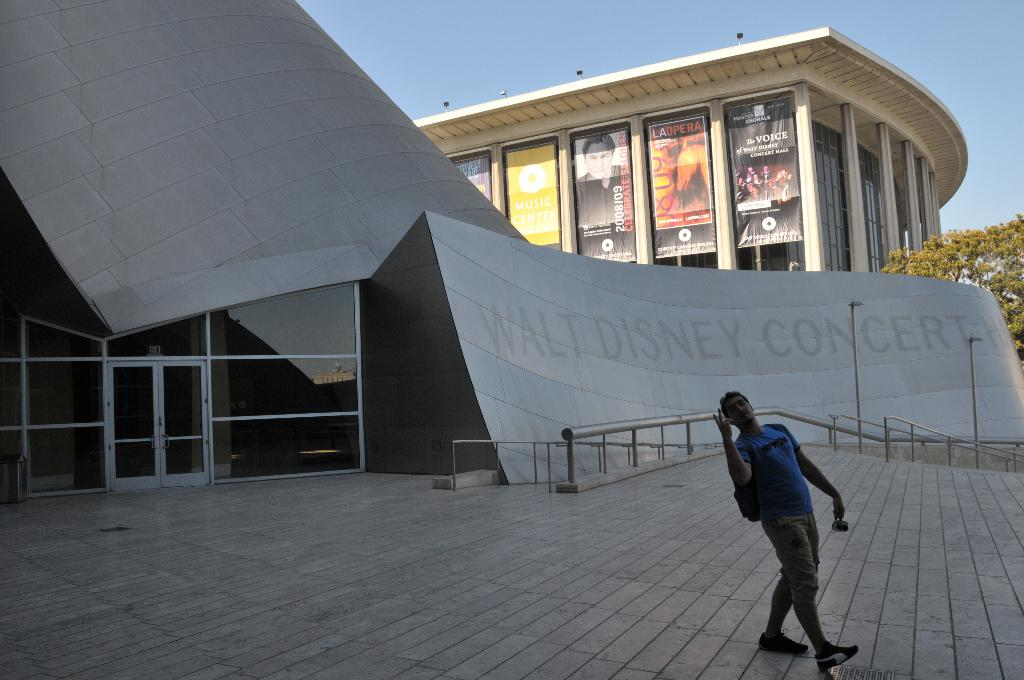Person: (575, 133, 634, 222)
